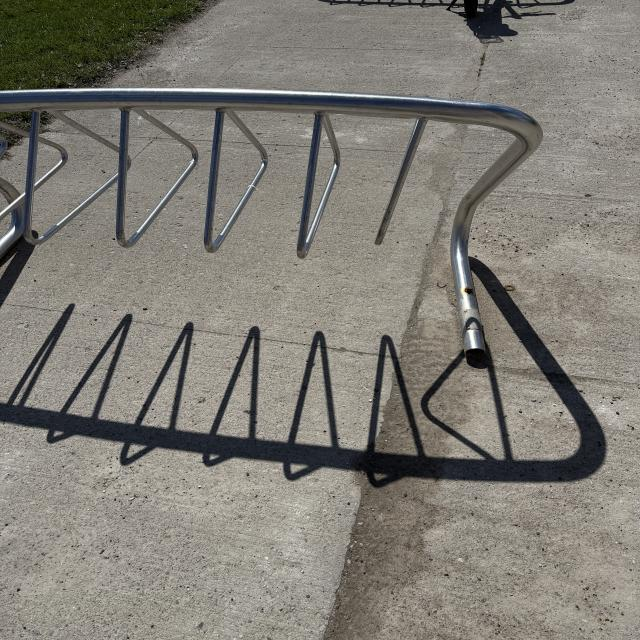Bicycle Rack: (0, 90, 542, 371)
